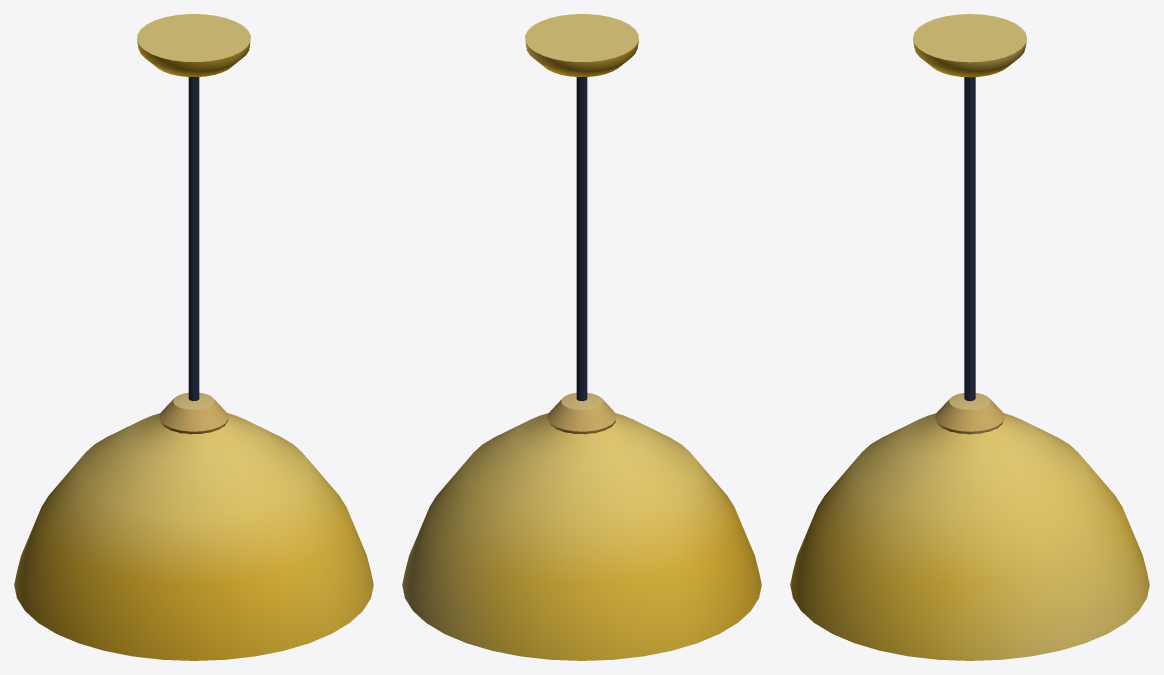
The model's file is ceiling_lamp.glb.
The picture shows the model from 3 angles, left to right: view 1: azimuth 30°, elevation 25°; view 2: azimuth 150°, elevation 25°; view 3: azimuth 270°, elevation 25°; orthographic projection.
Parts seen in each view (by area): view 1: CeilingLamp; view 2: CeilingLamp; view 3: CeilingLamp.
Part boxes in pixels (x1,y1,x2,y2): CeilingLamp: (14, 14, 373, 660); CeilingLamp: (402, 14, 761, 660); CeilingLamp: (790, 14, 1149, 660).
Bounding box in the file's own units: 0.516 × 0.866 × 0.516.
